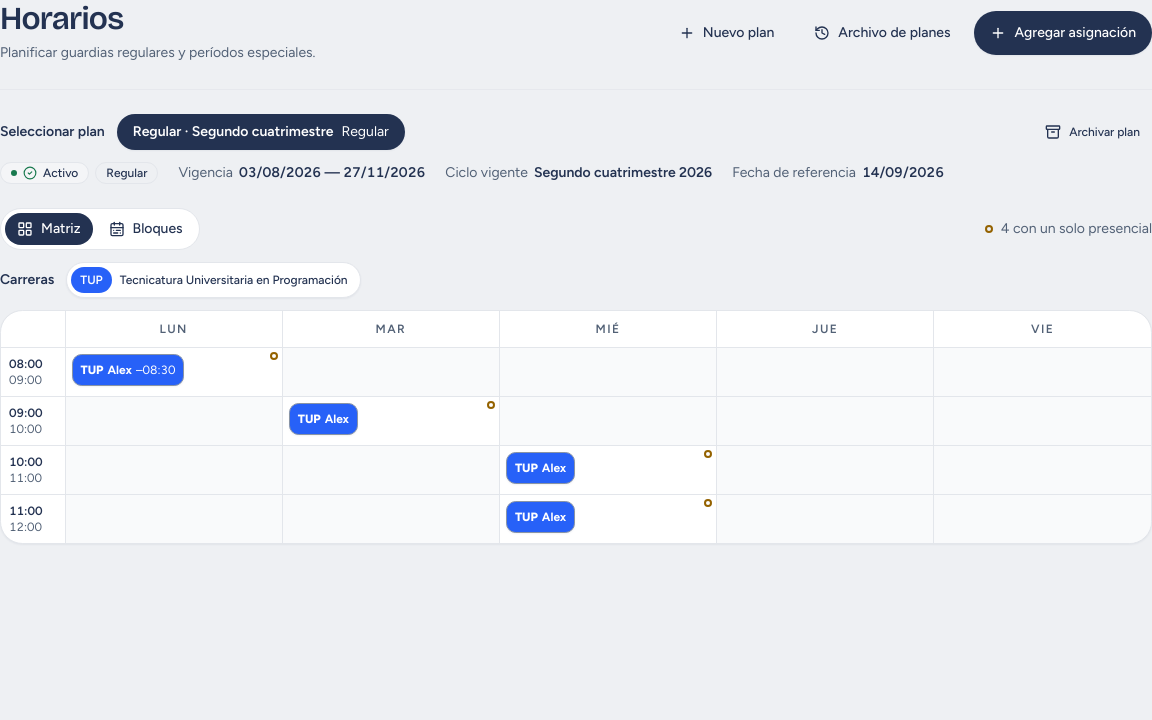
SchedulesScreen › keeps short blocks on one line with their times fully available
The image size is (1152, 720).
Step 1. Click the radio button labelled "Bloques" → x=146, y=229, box [97,213,195,245]
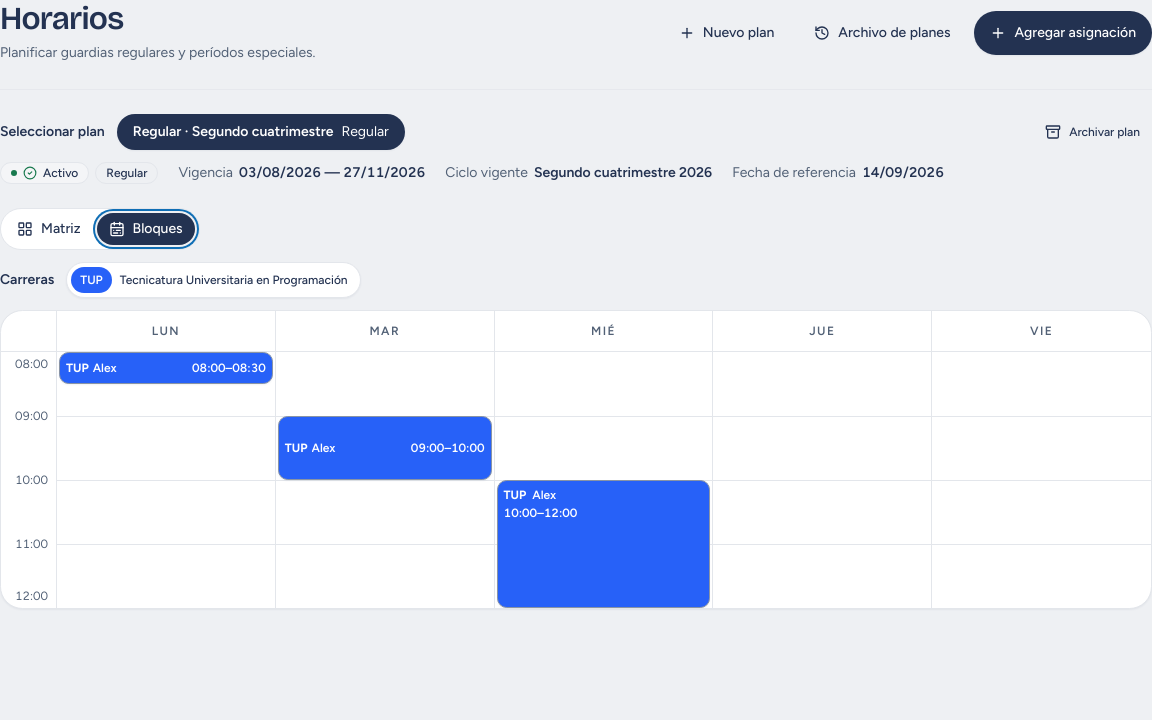
Step 2. Click the button "TUP Alex 08:00–08:30" → x=166, y=368, box [59,352,273,384]
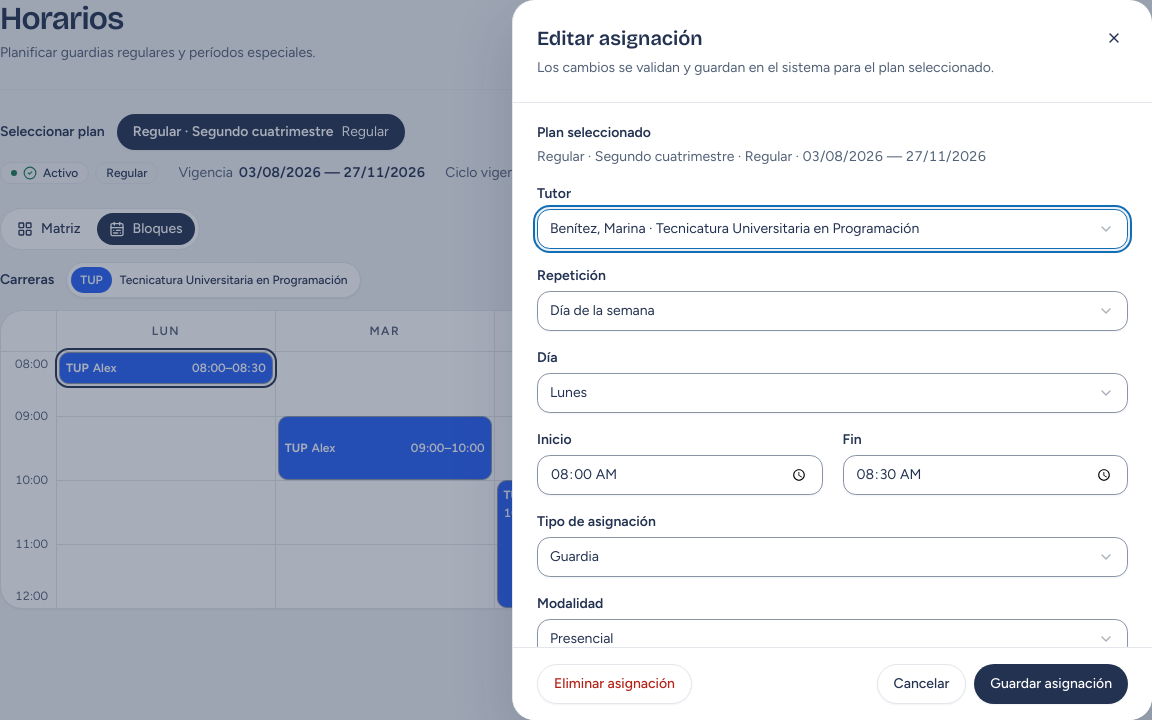
Now the dropdown labelled "Modalidad" shows "Presencial", box [537,619,1128,647]
